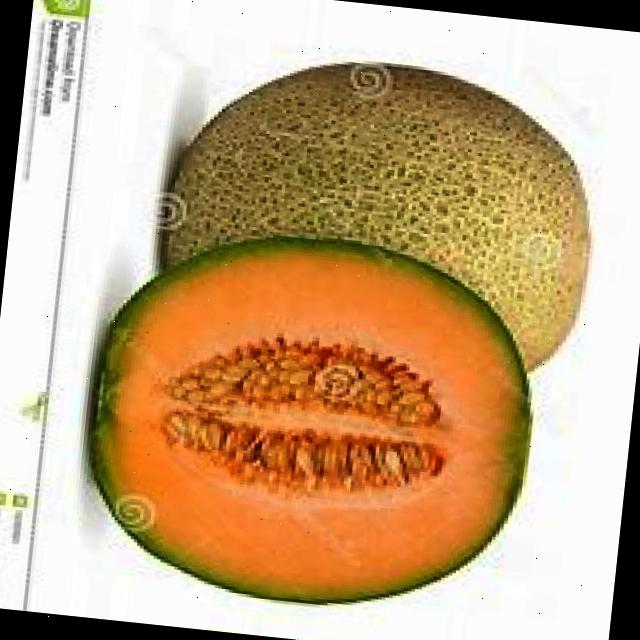Hami Melon: (73, 217, 553, 626), (151, 39, 606, 378)
